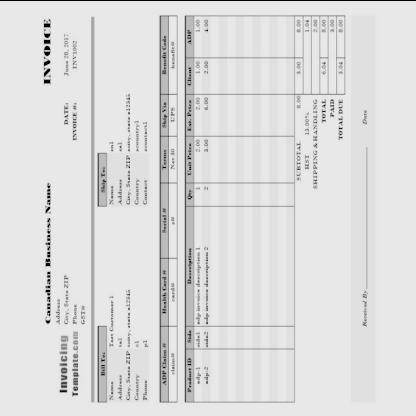Paragraph: (295, 15, 345, 190), (44, 180, 86, 326), (98, 286, 150, 402), (98, 90, 148, 206), (62, 32, 78, 142), (58, 328, 80, 398), (160, 339, 178, 388), (160, 266, 178, 315), (160, 32, 177, 78), (42, 16, 52, 86), (160, 99, 178, 130), (160, 204, 177, 235), (160, 145, 177, 173)
Table: (184, 14, 212, 402)
